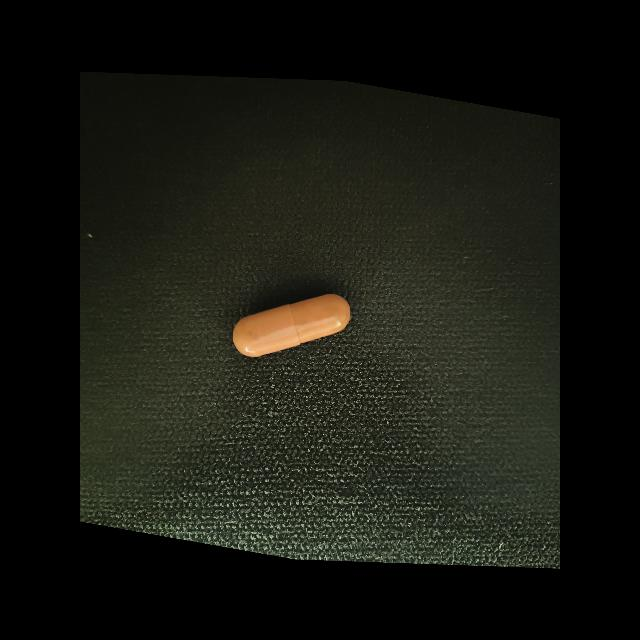Intact Capsule: (233, 294, 350, 357)
